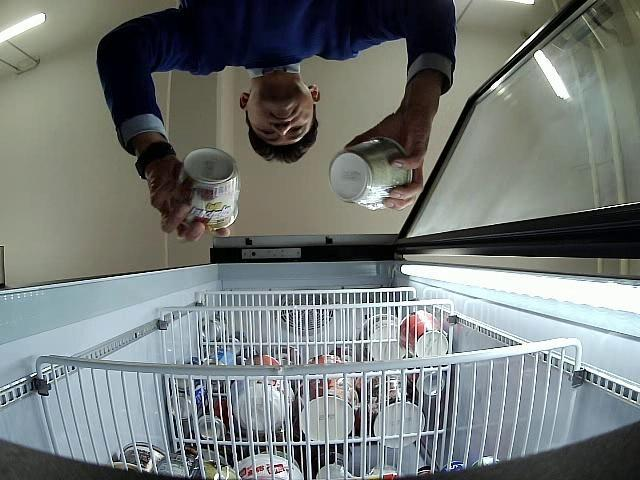04_chapagetti_S: (330, 138, 413, 210), (170, 147, 240, 232)
